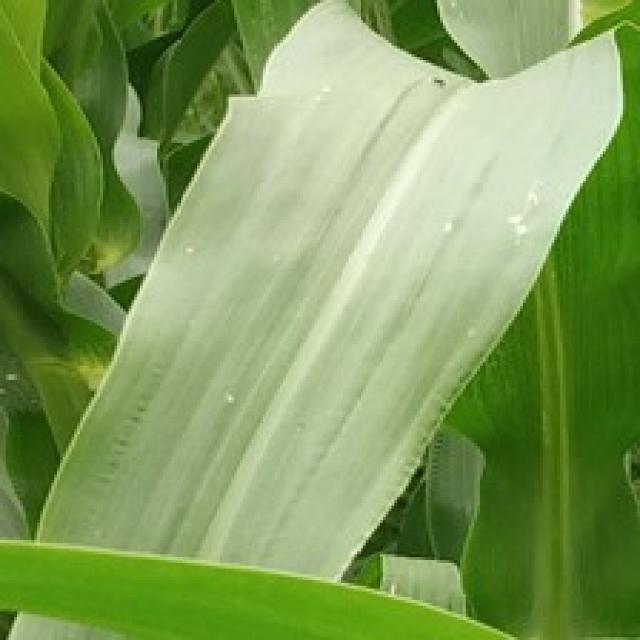Corn: (0, 0, 637, 637), (426, 0, 637, 637), (0, 532, 637, 637)
